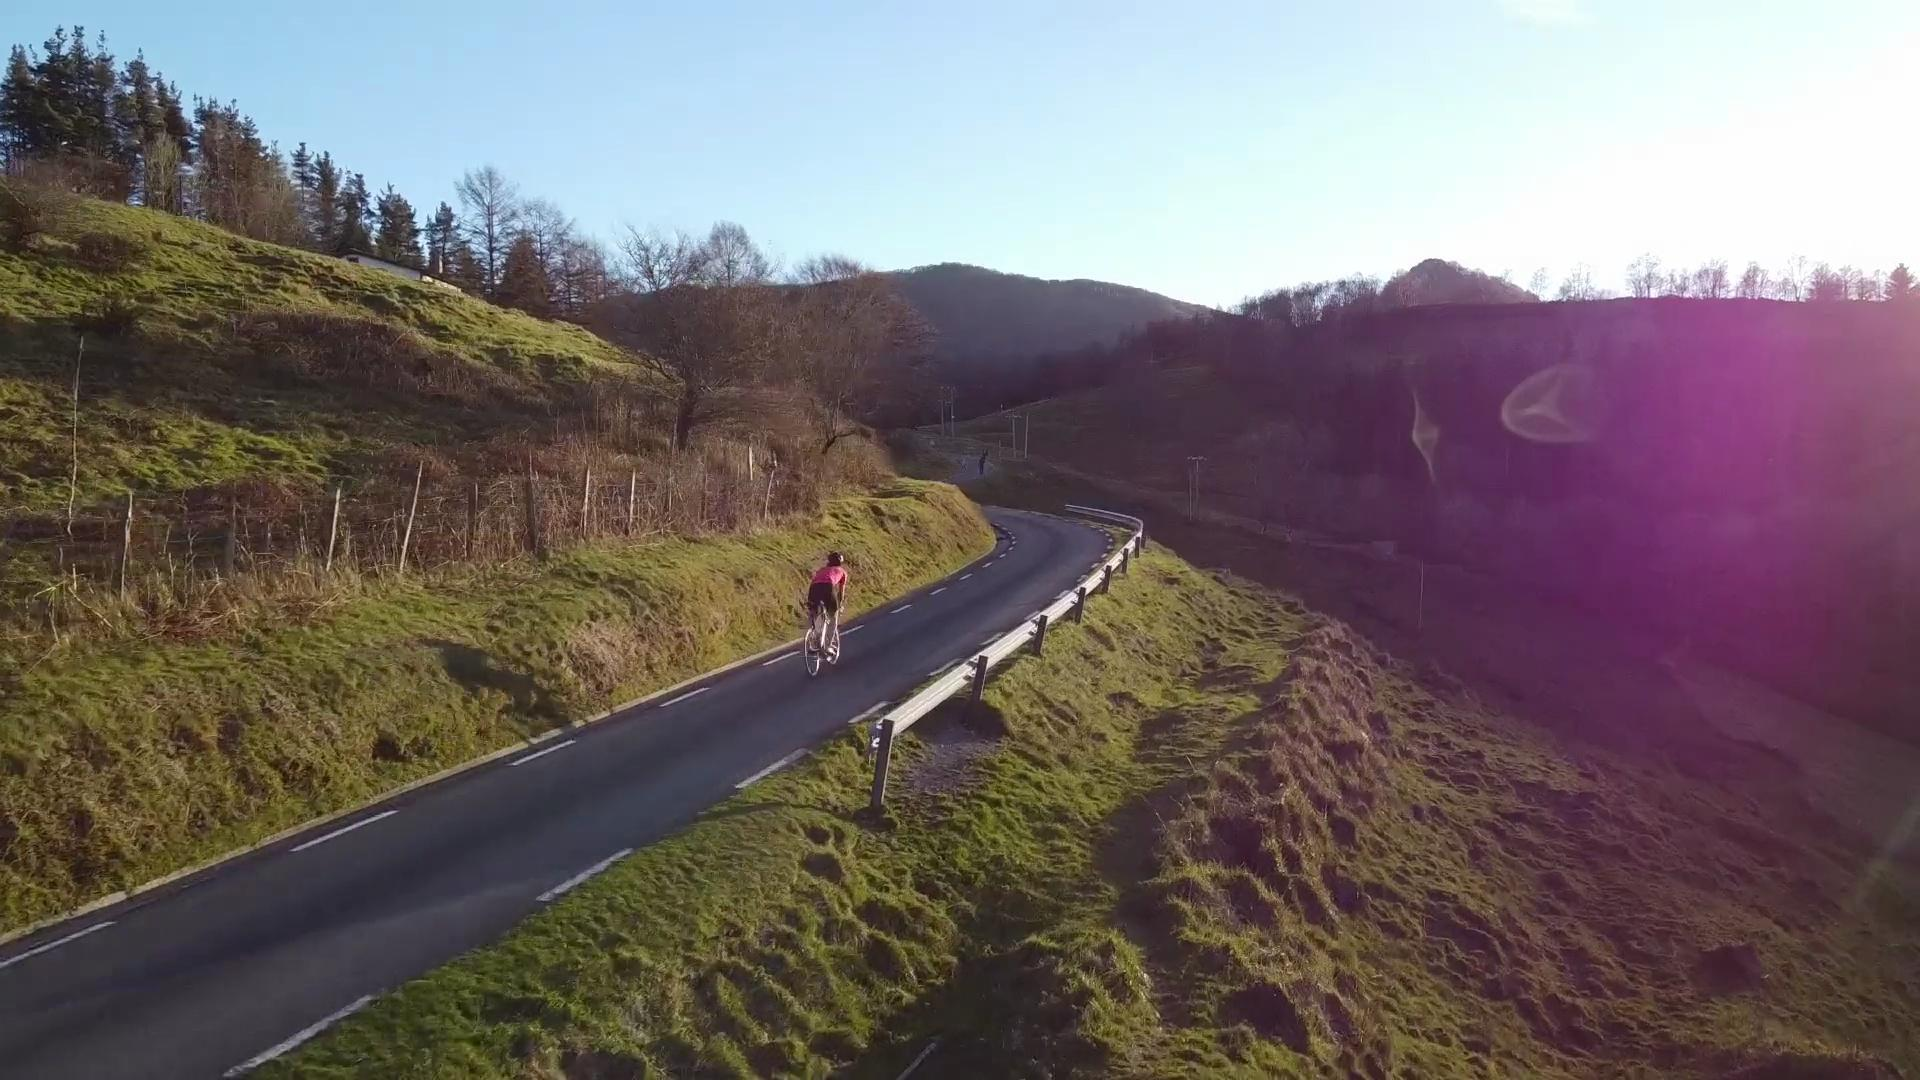cyclist: (789, 538, 863, 694)
